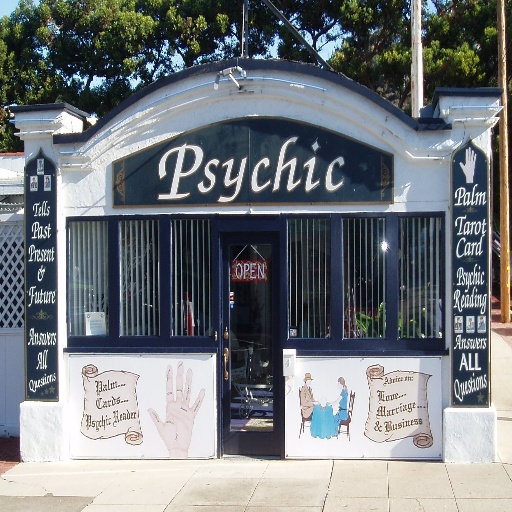hand: (153, 374, 197, 454), (313, 400, 319, 406), (326, 402, 332, 407), (327, 398, 331, 401)
